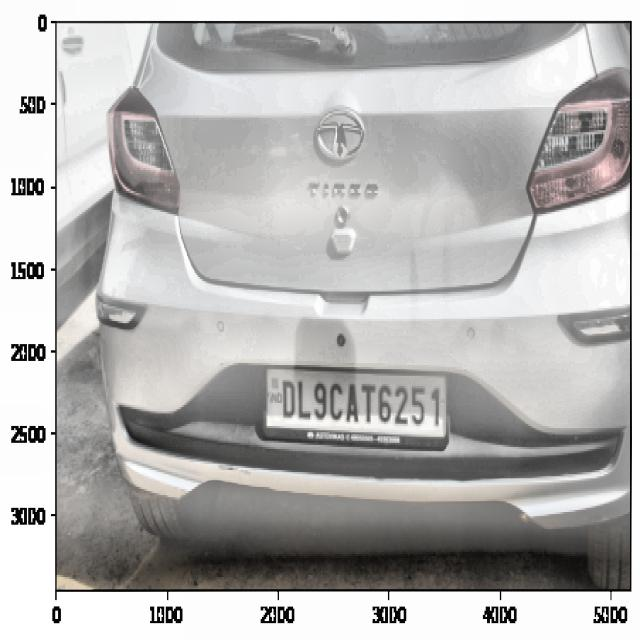license_plate: (276, 372, 446, 437)
